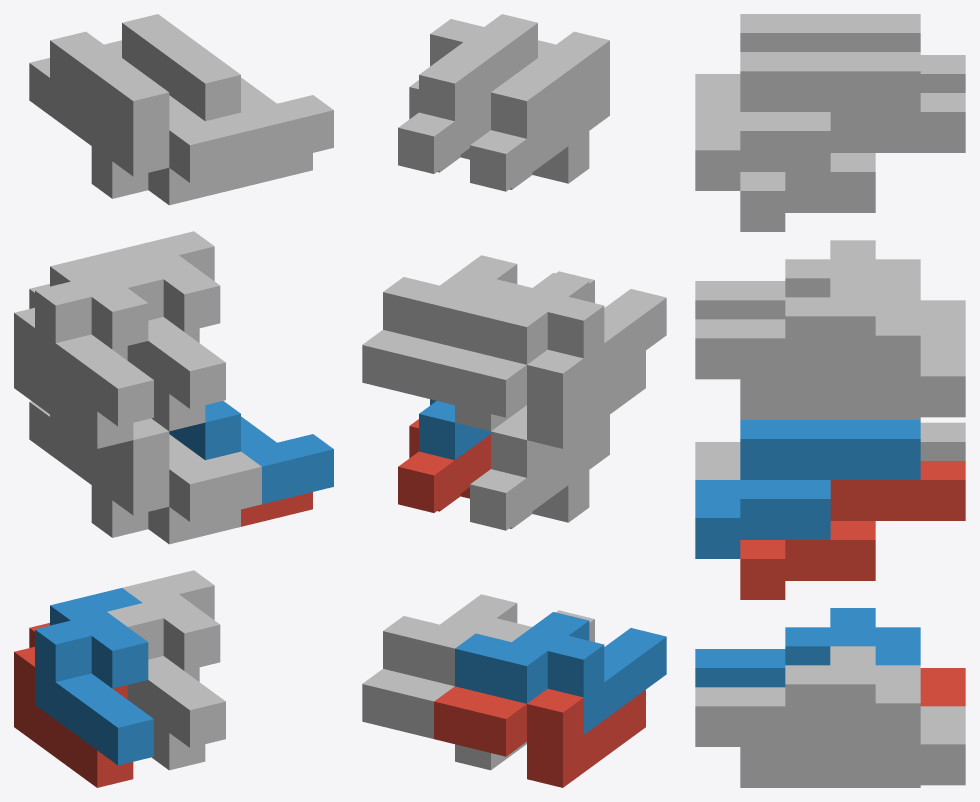
Rendered from tiling.obj.
3 views of the same model, side by side, from view 1: azimuth 30°, elevation 25°; view 2: azimuth 150°, elevation 25°; view 3: azimuth 270°, elevation 25° (orthographic). The views are drawn at different scales.
Visible parts, largest first — view 1: copy_2_domain_4, copy_1_domain_2, copy_1_domain_4, copy_1_domain_6, copy_1_domain_8, copy_2_domain_8, copy_2_domain_2, copy_2_domain_6, copy_2_domain_3, copy_2_domain_1, copy_1_domain_3, copy_1_domain_1 (+4 smaller); view 2: copy_1_domain_4, copy_1_domain_2, copy_1_domain_3, copy_1_domain_1, copy_2_domain_8, copy_2_domain_4, copy_1_domain_8, copy_1_domain_6, copy_2_domain_1, copy_2_domain_3, copy_1_domain_7, copy_1_domain_5 (+4 smaller); view 3: copy_2_domain_6, copy_2_domain_8, copy_1_domain_8, copy_1_domain_6, copy_2_domain_5, copy_2_domain_7, copy_1_domain_5, copy_1_domain_7, copy_1_domain_2, copy_1_domain_4, copy_2_domain_4, copy_1_domain_1 (+4 smaller).
Part boxes in pixels (x1,y1,x2,y2): copy_2_domain_4: [50, 31, 261, 182]; copy_1_domain_2: [35, 588, 153, 765]; copy_1_domain_4: [35, 249, 153, 426]; copy_1_domain_6: [107, 570, 225, 747]; copy_1_domain_8: [107, 231, 225, 408]; copy_2_domain_8: [122, 14, 333, 165]; copy_2_domain_2: [50, 414, 261, 521]; copy_2_domain_6: [169, 401, 333, 504]; copy_2_domain_3: [29, 58, 240, 205]; copy_2_domain_1: [29, 401, 240, 544]; copy_1_domain_3: [14, 284, 133, 448]; copy_1_domain_1: [14, 623, 133, 787]; copy_1_domain_4: [455, 273, 666, 395]; copy_1_domain_2: [455, 612, 666, 734]; copy_1_domain_3: [434, 347, 645, 448]; copy_1_domain_1: [434, 686, 645, 787]; copy_2_domain_8: [419, 14, 537, 121]; copy_2_domain_4: [491, 31, 609, 138]; copy_1_domain_8: [383, 255, 594, 347]; copy_1_domain_6: [383, 594, 594, 686]; copy_2_domain_1: [470, 432, 589, 530]; copy_2_domain_3: [470, 93, 589, 191]; copy_1_domain_7: [362, 330, 526, 431]; copy_1_domain_5: [362, 669, 526, 770]; copy_2_domain_6: [695, 420, 920, 558]; copy_2_domain_8: [695, 52, 920, 190]; copy_1_domain_8: [695, 278, 920, 379]; copy_1_domain_6: [695, 646, 920, 746]; copy_2_domain_5: [740, 461, 965, 599]; copy_2_domain_7: [740, 93, 965, 231]; copy_1_domain_5: [740, 706, 965, 787]; copy_1_domain_7: [740, 338, 965, 419]; copy_1_domain_2: [695, 608, 920, 687]; copy_1_domain_4: [695, 240, 920, 319]; copy_2_domain_4: [695, 14, 920, 111]; copy_1_domain_1: [920, 668, 965, 706].
Bounding box in the file's own units: 6 × 18 × 6.
